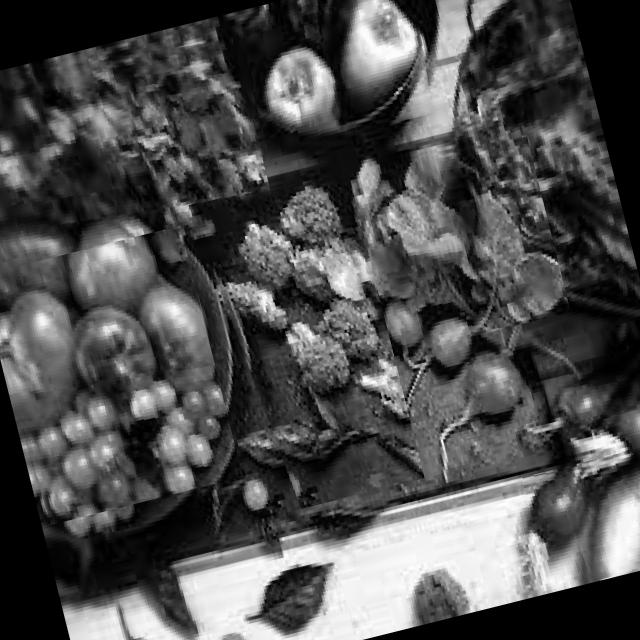Organic: (0, 182, 242, 526), (188, 165, 424, 517), (0, 14, 273, 271), (442, 0, 640, 333), (360, 123, 570, 352), (233, 0, 447, 159), (554, 437, 640, 584), (438, 350, 538, 440), (515, 460, 603, 546), (573, 401, 640, 487), (557, 356, 637, 426), (382, 282, 427, 362), (422, 311, 476, 372), (203, 628, 257, 640)
